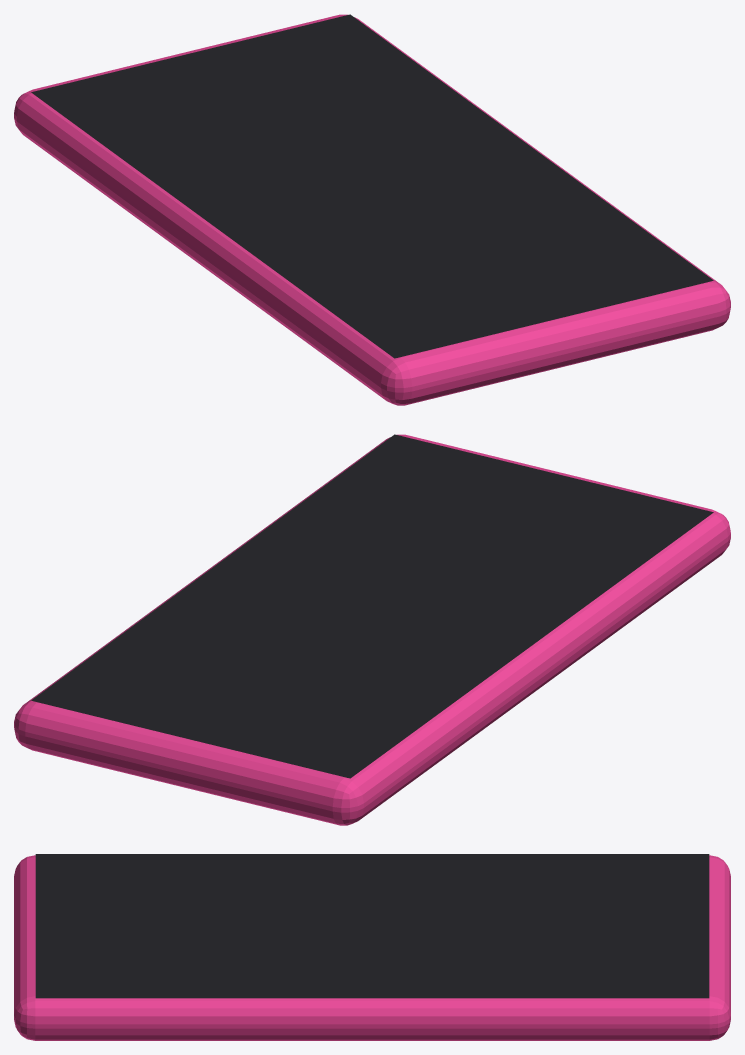
Rendered from oppo-f-model-341-mid-range-2026.glb.
3 views of the same model, one above another, from view 1: azimuth 30°, elevation 25°; view 2: azimuth 150°, elevation 25°; view 3: azimuth 270°, elevation 25° (orthographic). The views are drawn at different scales.
Visible parts, largest first — view 1: Phone_Screen, Phone_Body; view 2: Phone_Screen, Phone_Body; view 3: Phone_Screen, Phone_Body.
Boxes of the visible parts, x1=… form: Phone_Screen: x1=31, y1=14, x2=713, y2=358; Phone_Body: x1=14, y1=14, x2=730, y2=405; Phone_Screen: x1=31, y1=434, x2=713, y2=778; Phone_Body: x1=14, y1=434, x2=730, y2=825; Phone_Screen: x1=35, y1=854, x2=709, y2=998; Phone_Body: x1=14, y1=855, x2=730, y2=1040.
Size of the model in its own units: 0.0764 by 0.0098 by 0.1475.
